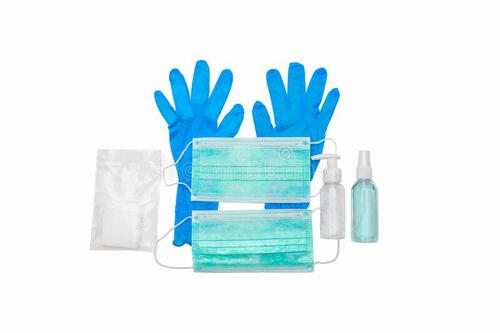sanitizer: (311, 150, 347, 241), (351, 150, 384, 245)
